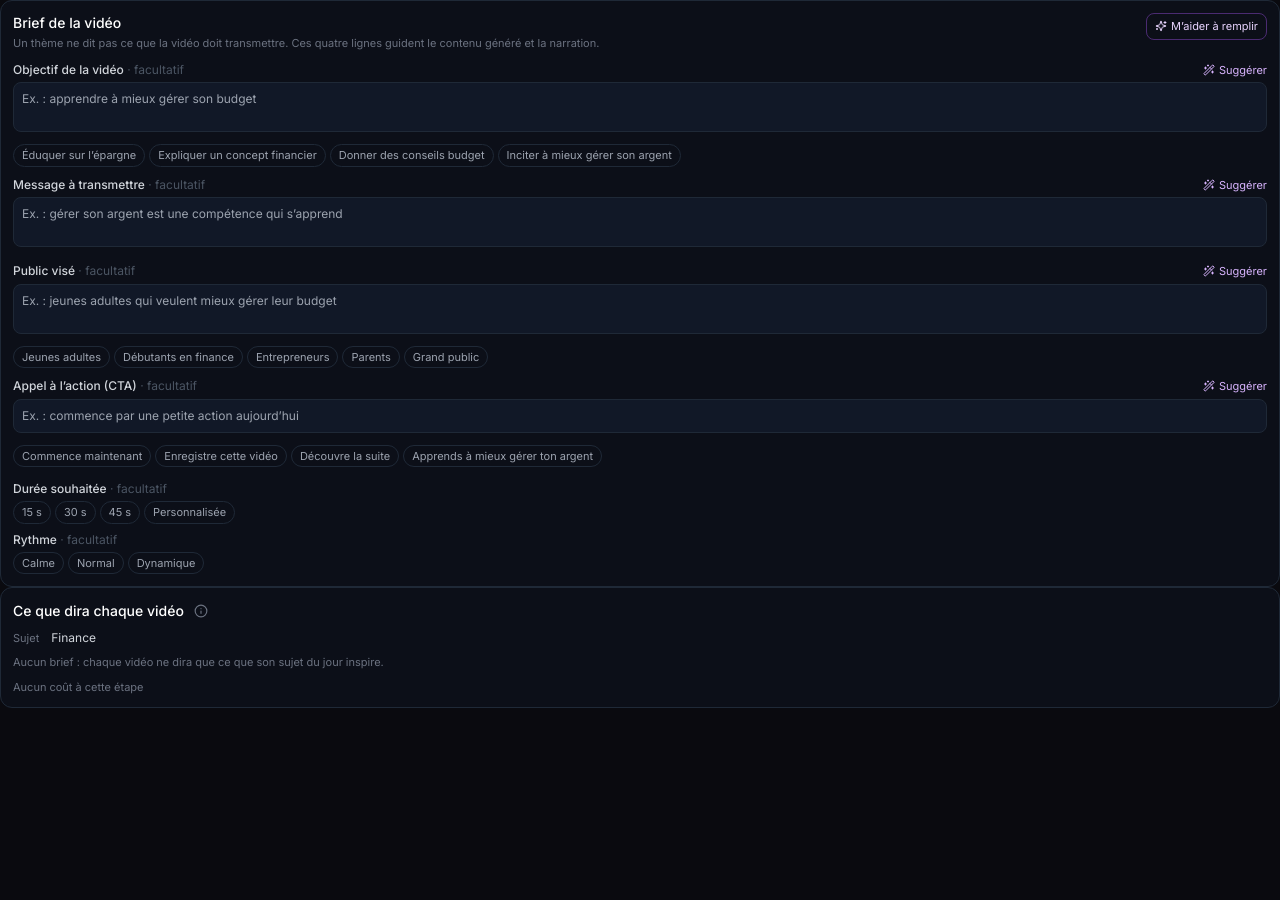
Test case: UI — Brief récurrent › F. « Suggérer » change le texte à chaque clic
Step 1. Click the button "Suggérer" in the row of "Message à transmettre" → [1235, 185], box [1203,176,1267,193]
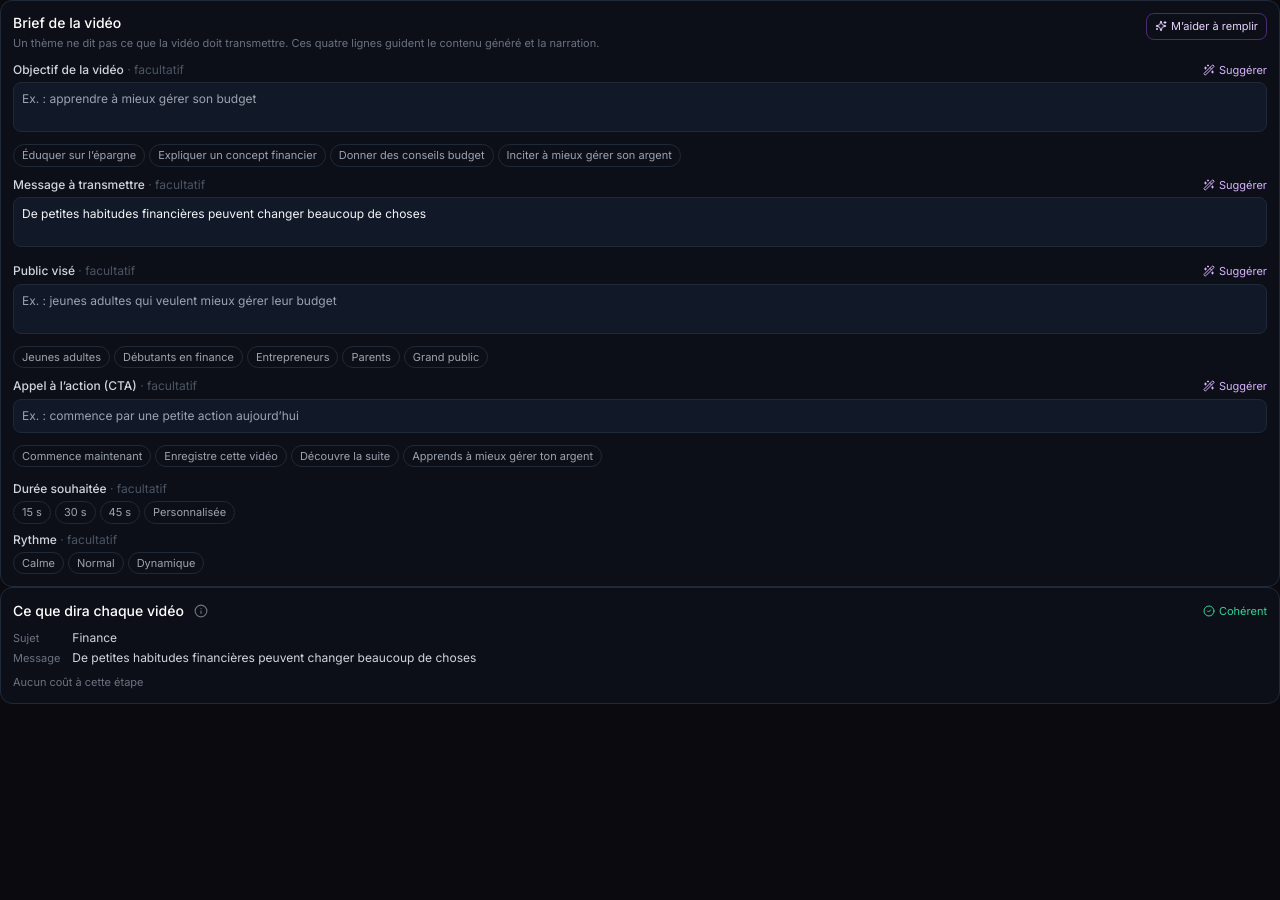
Check: the text box labelled "Message à transmettre · facultatif" is not empty, box [13,197,1267,247]
Step 2. Click the button "Suggérer" in the row of "Message à transmettre" → [1235, 185], box [1203,176,1267,193]
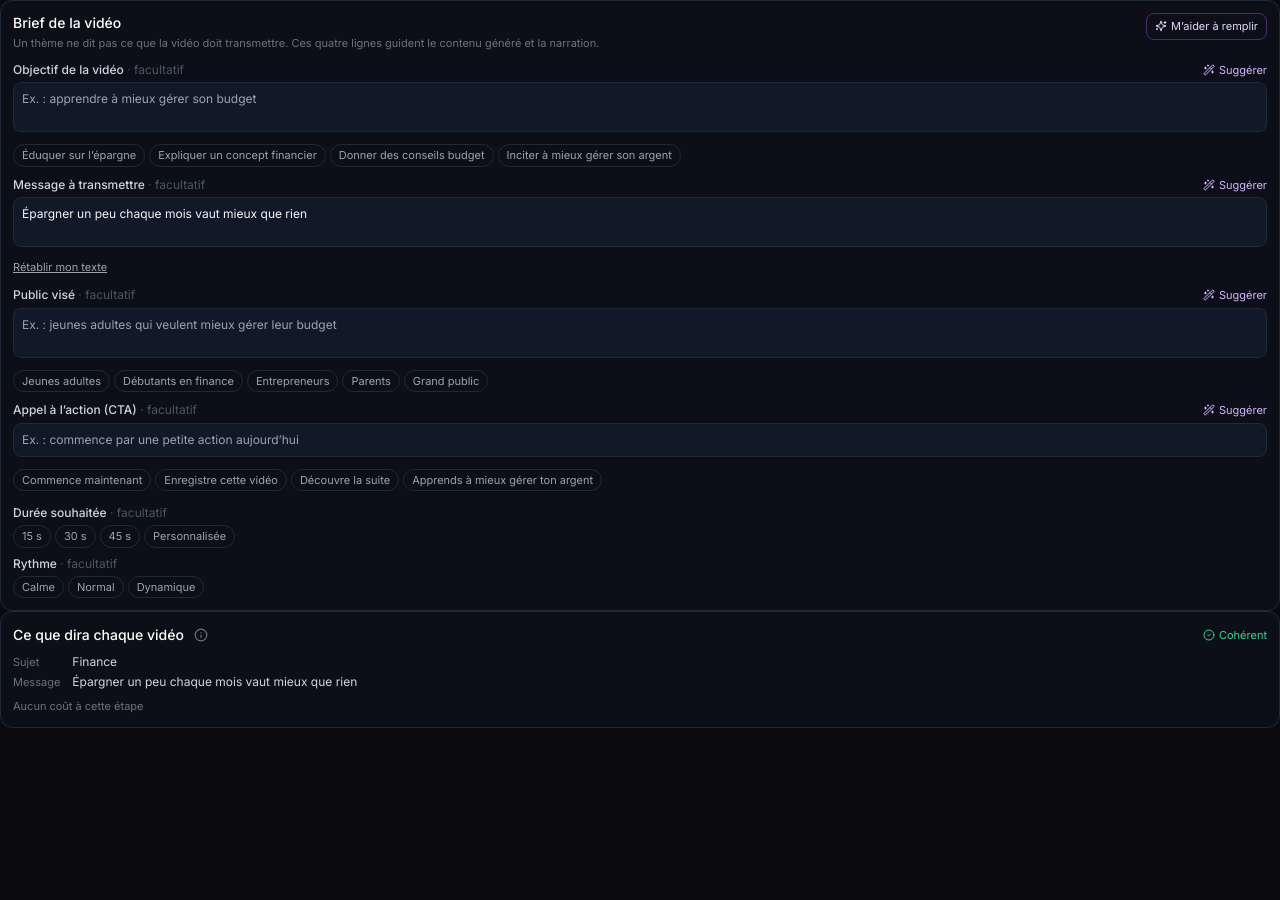
Check: the text box labelled "Message à transmettre · facultatif" does not hold "De petites habitudes financières peuvent changer beaucoup de choses", box [13,197,1267,247]
Step 3. Click the button "Suggérer" in the row of "Message à transmettre" → [1235, 185], box [1203,176,1267,193]
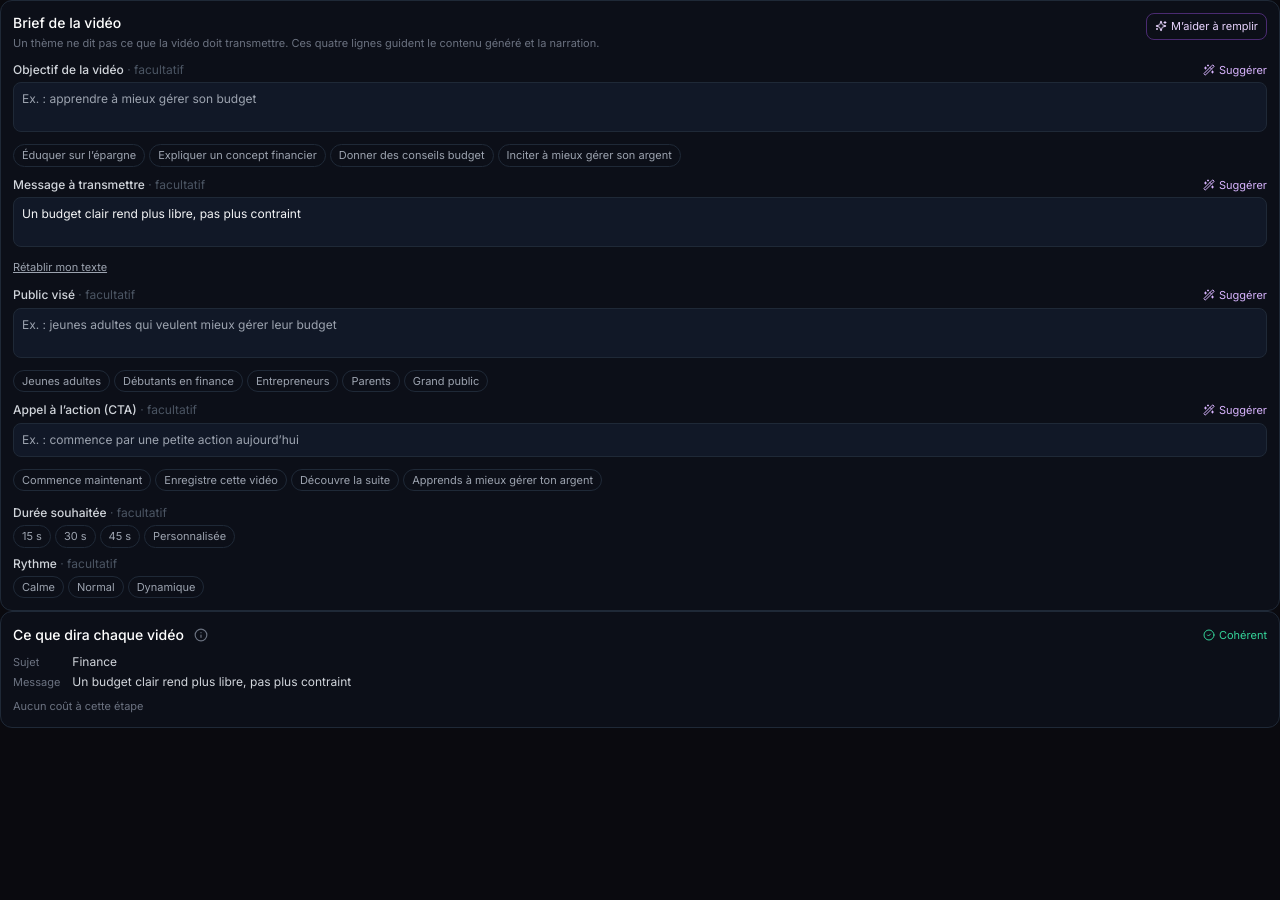
Check: the text box labelled "Message à transmettre · facultatif" does not hold "Épargner un peu chaque mois vaut mieux que rien", box [13,197,1267,247]
